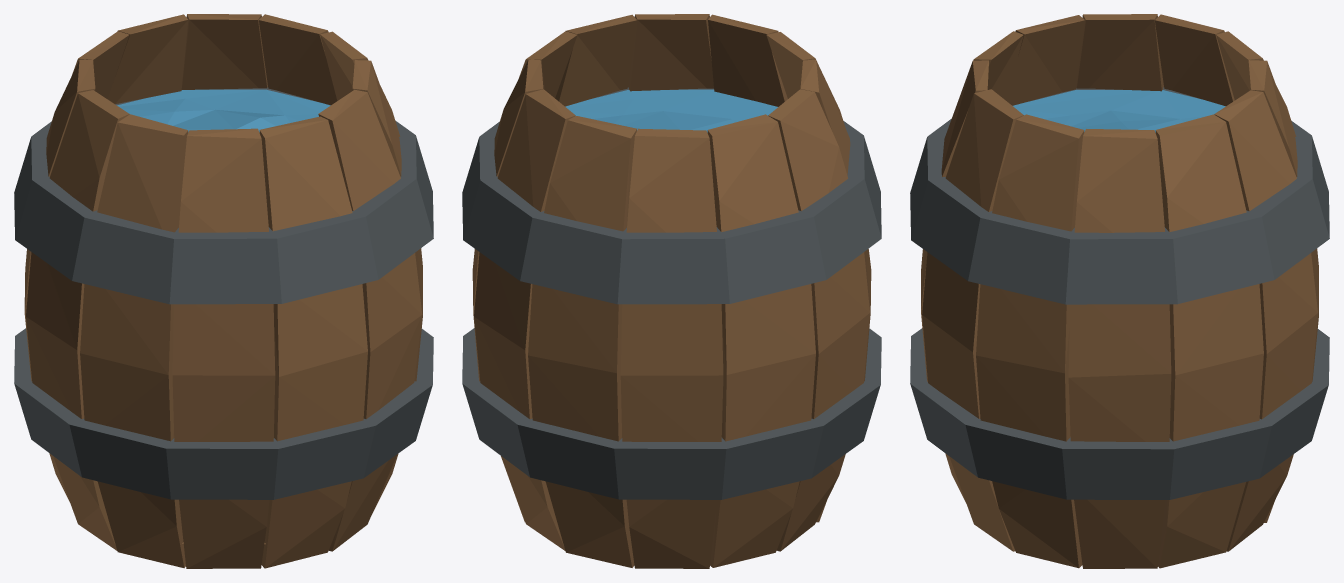
Rendered from Barrel_02.fbx.
3 views of the same model, side by side, from view 1: azimuth 30°, elevation 25°; view 2: azimuth 150°, elevation 25°; view 3: azimuth 270°, elevation 25° (orthographic).
Visible parts, largest first — view 1: Barrel_02; view 2: Barrel_02; view 3: Barrel_02.
Boxes of the visible parts, <box> form: Barrel_02: <box>14,14,433,568</box>; Barrel_02: <box>462,14,881,568</box>; Barrel_02: <box>910,14,1329,568</box>.
Size of the model in its own units: 0.8994 by 1.03 by 0.8994.
